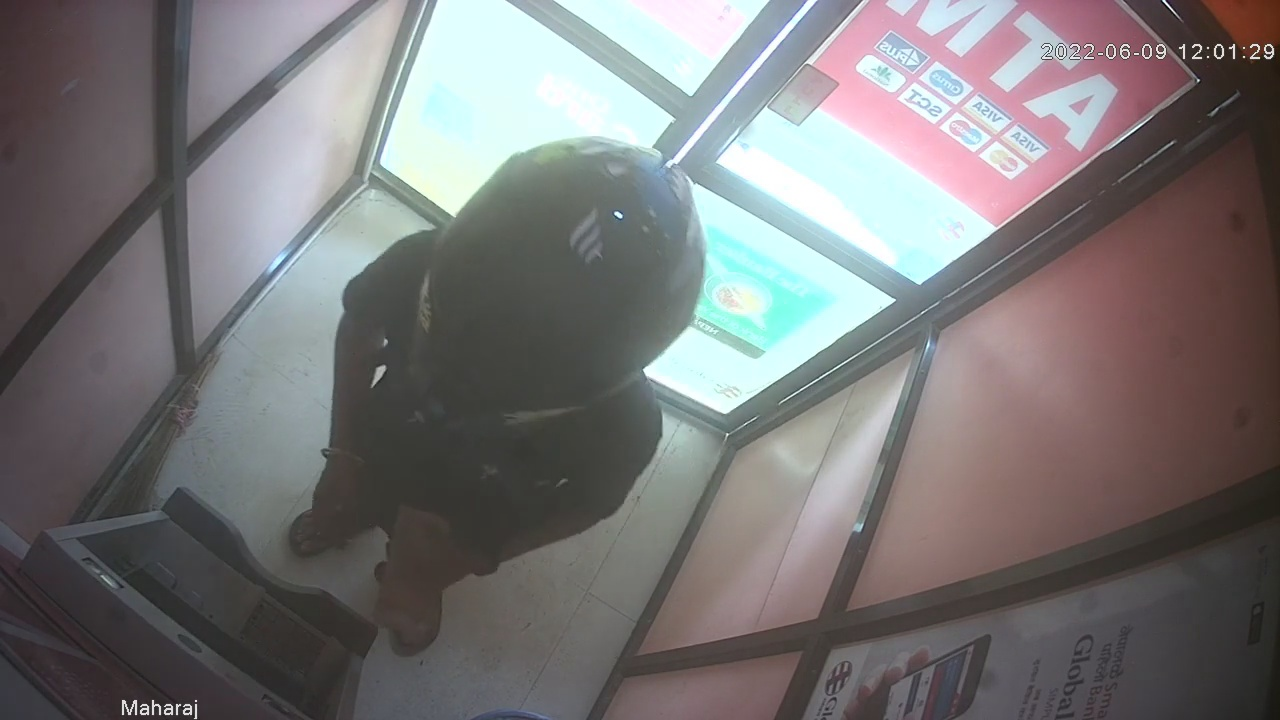helmet: (413, 134, 706, 429)
person: (288, 134, 707, 656)
